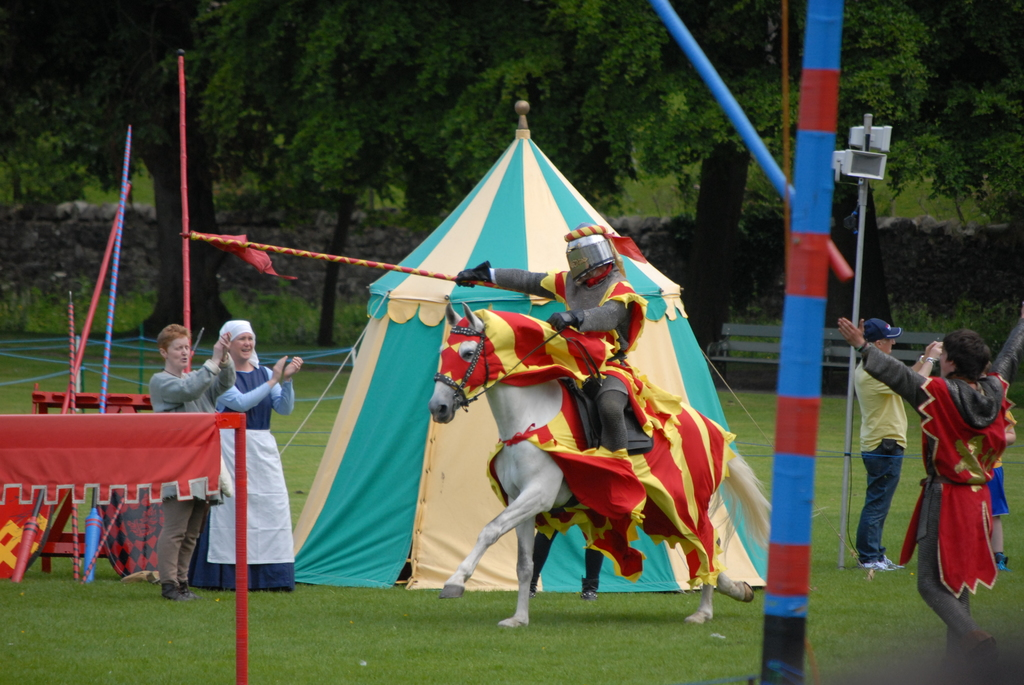Person: (838, 298, 1024, 685), (453, 221, 643, 456), (193, 322, 302, 591), (151, 326, 239, 604), (854, 317, 944, 570)
